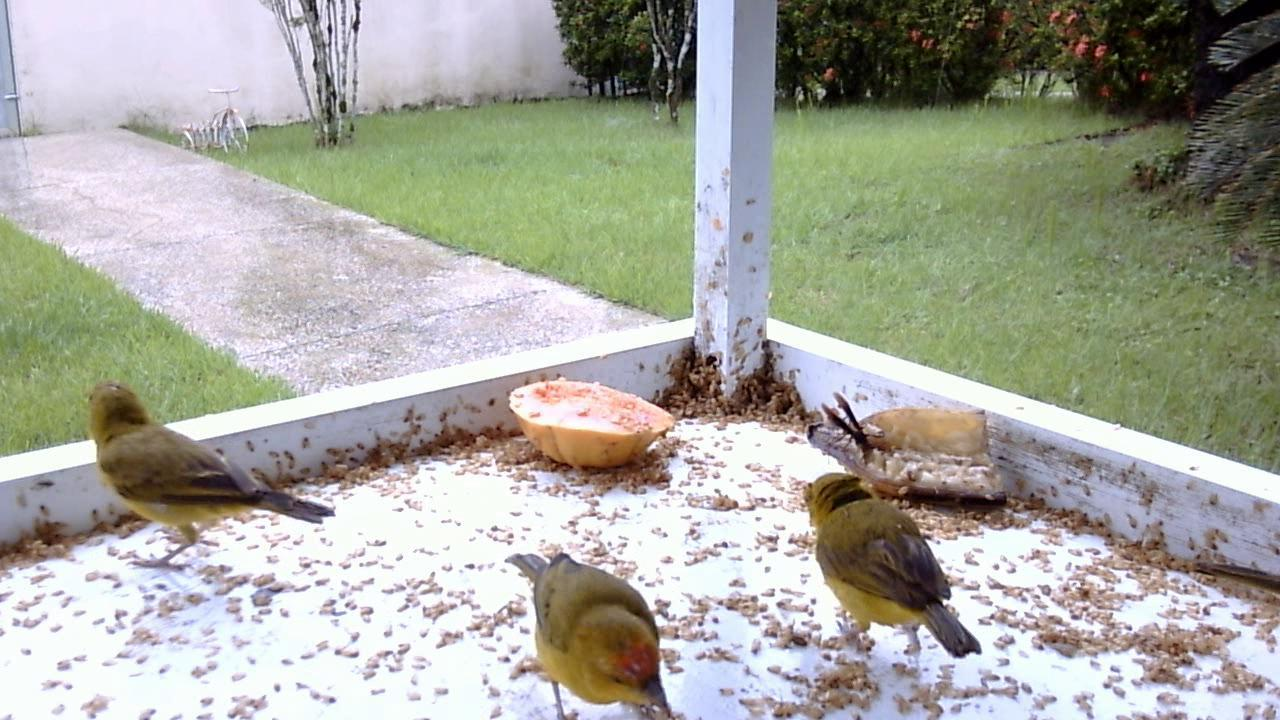canario_do_amazonas: (83, 371, 332, 576), (803, 469, 983, 661), (502, 543, 680, 720)
